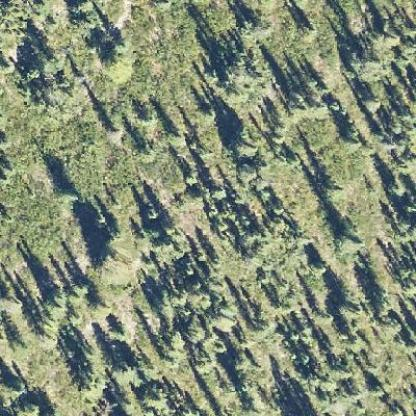tree-top: (93, 230, 144, 281), (223, 57, 266, 101), (103, 51, 133, 85), (40, 290, 72, 319), (0, 374, 30, 404), (35, 47, 66, 74), (131, 102, 161, 127), (180, 315, 205, 343), (107, 360, 134, 385), (334, 300, 363, 322), (337, 228, 363, 252), (376, 315, 400, 338), (53, 185, 79, 205), (297, 20, 320, 42), (320, 180, 346, 199), (106, 322, 129, 342), (234, 162, 257, 181), (340, 136, 364, 153), (361, 95, 384, 112), (103, 125, 127, 141), (136, 144, 157, 162), (308, 260, 326, 277)
